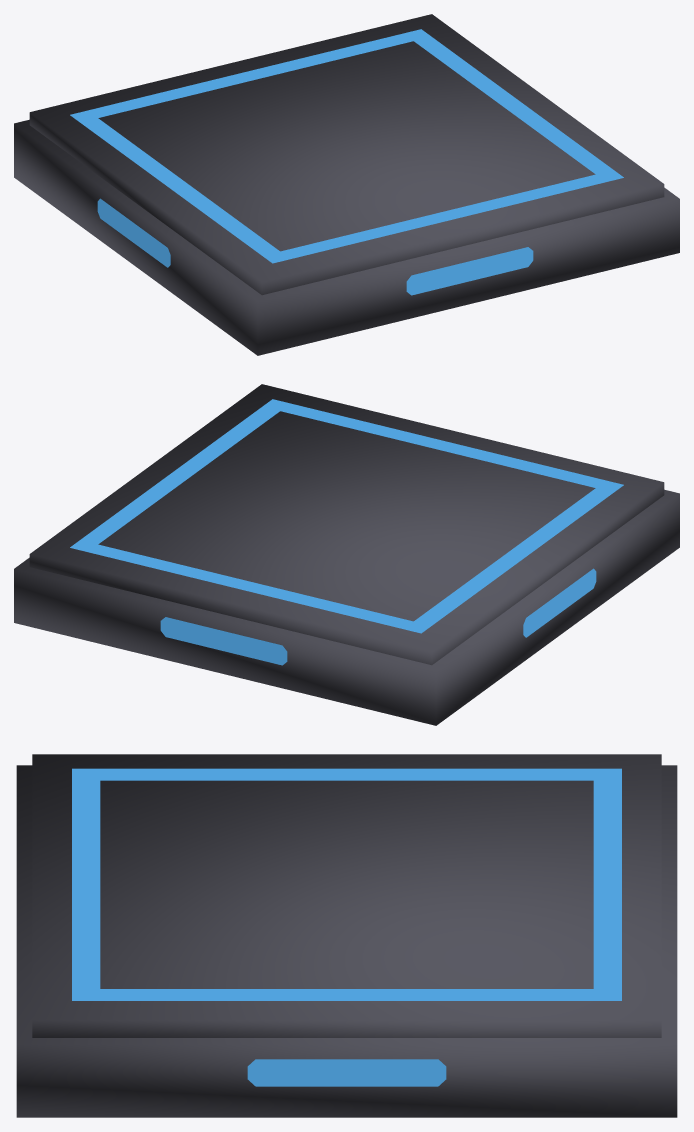
Rendered from collapsingPlatformBlue.glb.
3 renders of one model, top to bottom at view 1: azimuth 30°, elevation 25°; view 2: azimuth 150°, elevation 25°; view 3: azimuth 270°, elevation 25°, orthographic. The views are drawn at different scales.
Parts seen in each view (by area): view 1: PlatformCollapsingBlue1, PlatformCollapsingLightsBlue1; view 2: PlatformCollapsingBlue1, PlatformCollapsingLightsBlue1; view 3: PlatformCollapsingBlue1, PlatformCollapsingLightsBlue1.
Part boxes in pixels (left/top/right/bottom): PlatformCollapsingBlue1: left=14, top=14, right=679, bottom=355; PlatformCollapsingLightsBlue1: left=70, top=29, right=623, bottom=295; PlatformCollapsingBlue1: left=14, top=384, right=679, bottom=725; PlatformCollapsingLightsBlue1: left=70, top=399, right=623, bottom=665; PlatformCollapsingBlue1: left=16, top=754, right=677, bottom=1117; PlatformCollapsingLightsBlue1: left=72, top=768, right=621, bottom=1086.
Size of what is drawn, in the model's own units: 2.42 by 0.3741 by 2.42.
2 materials, 2 textured.
